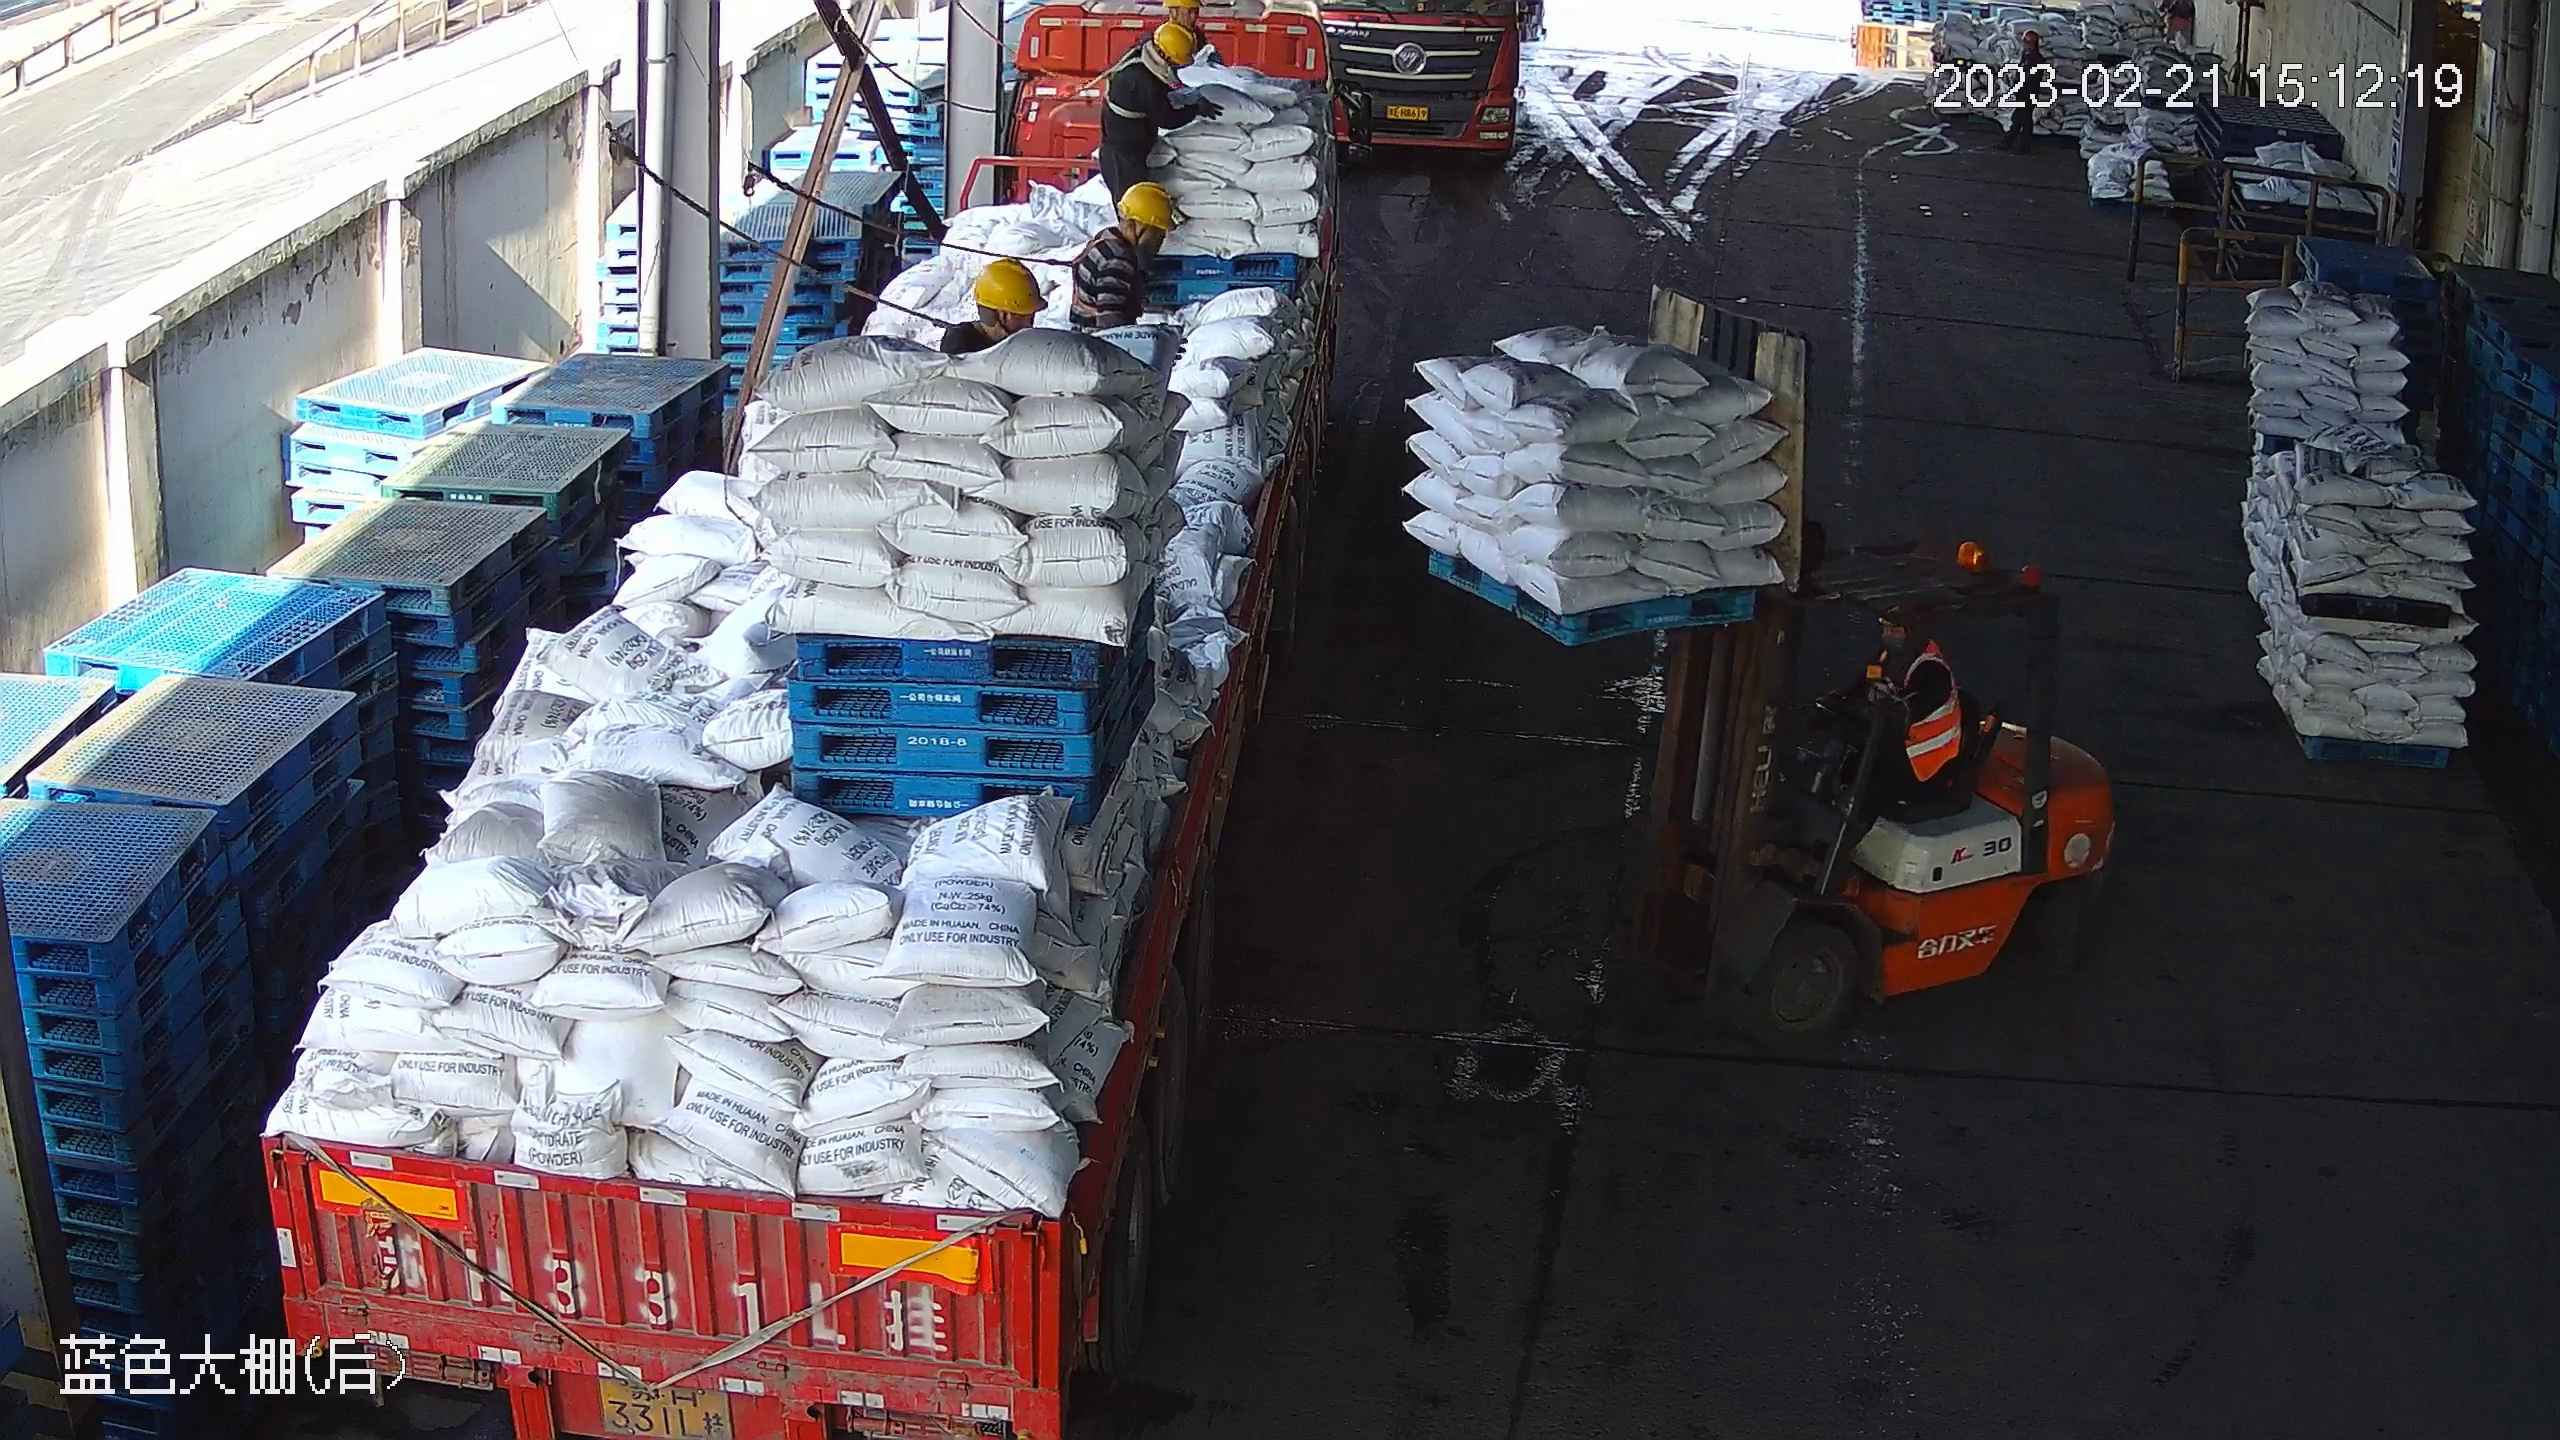belt: (1062, 237, 1123, 314), (1095, 43, 1148, 121)
head: (1070, 179, 1179, 283), (1120, 21, 1199, 96)
helmet: (974, 257, 1049, 315), (1117, 179, 1178, 231), (1152, 22, 1197, 66)
people: (1097, 22, 1226, 223), (1854, 610, 1960, 840)
truck: (262, 3, 1374, 1440), (1316, 1, 1528, 160)
